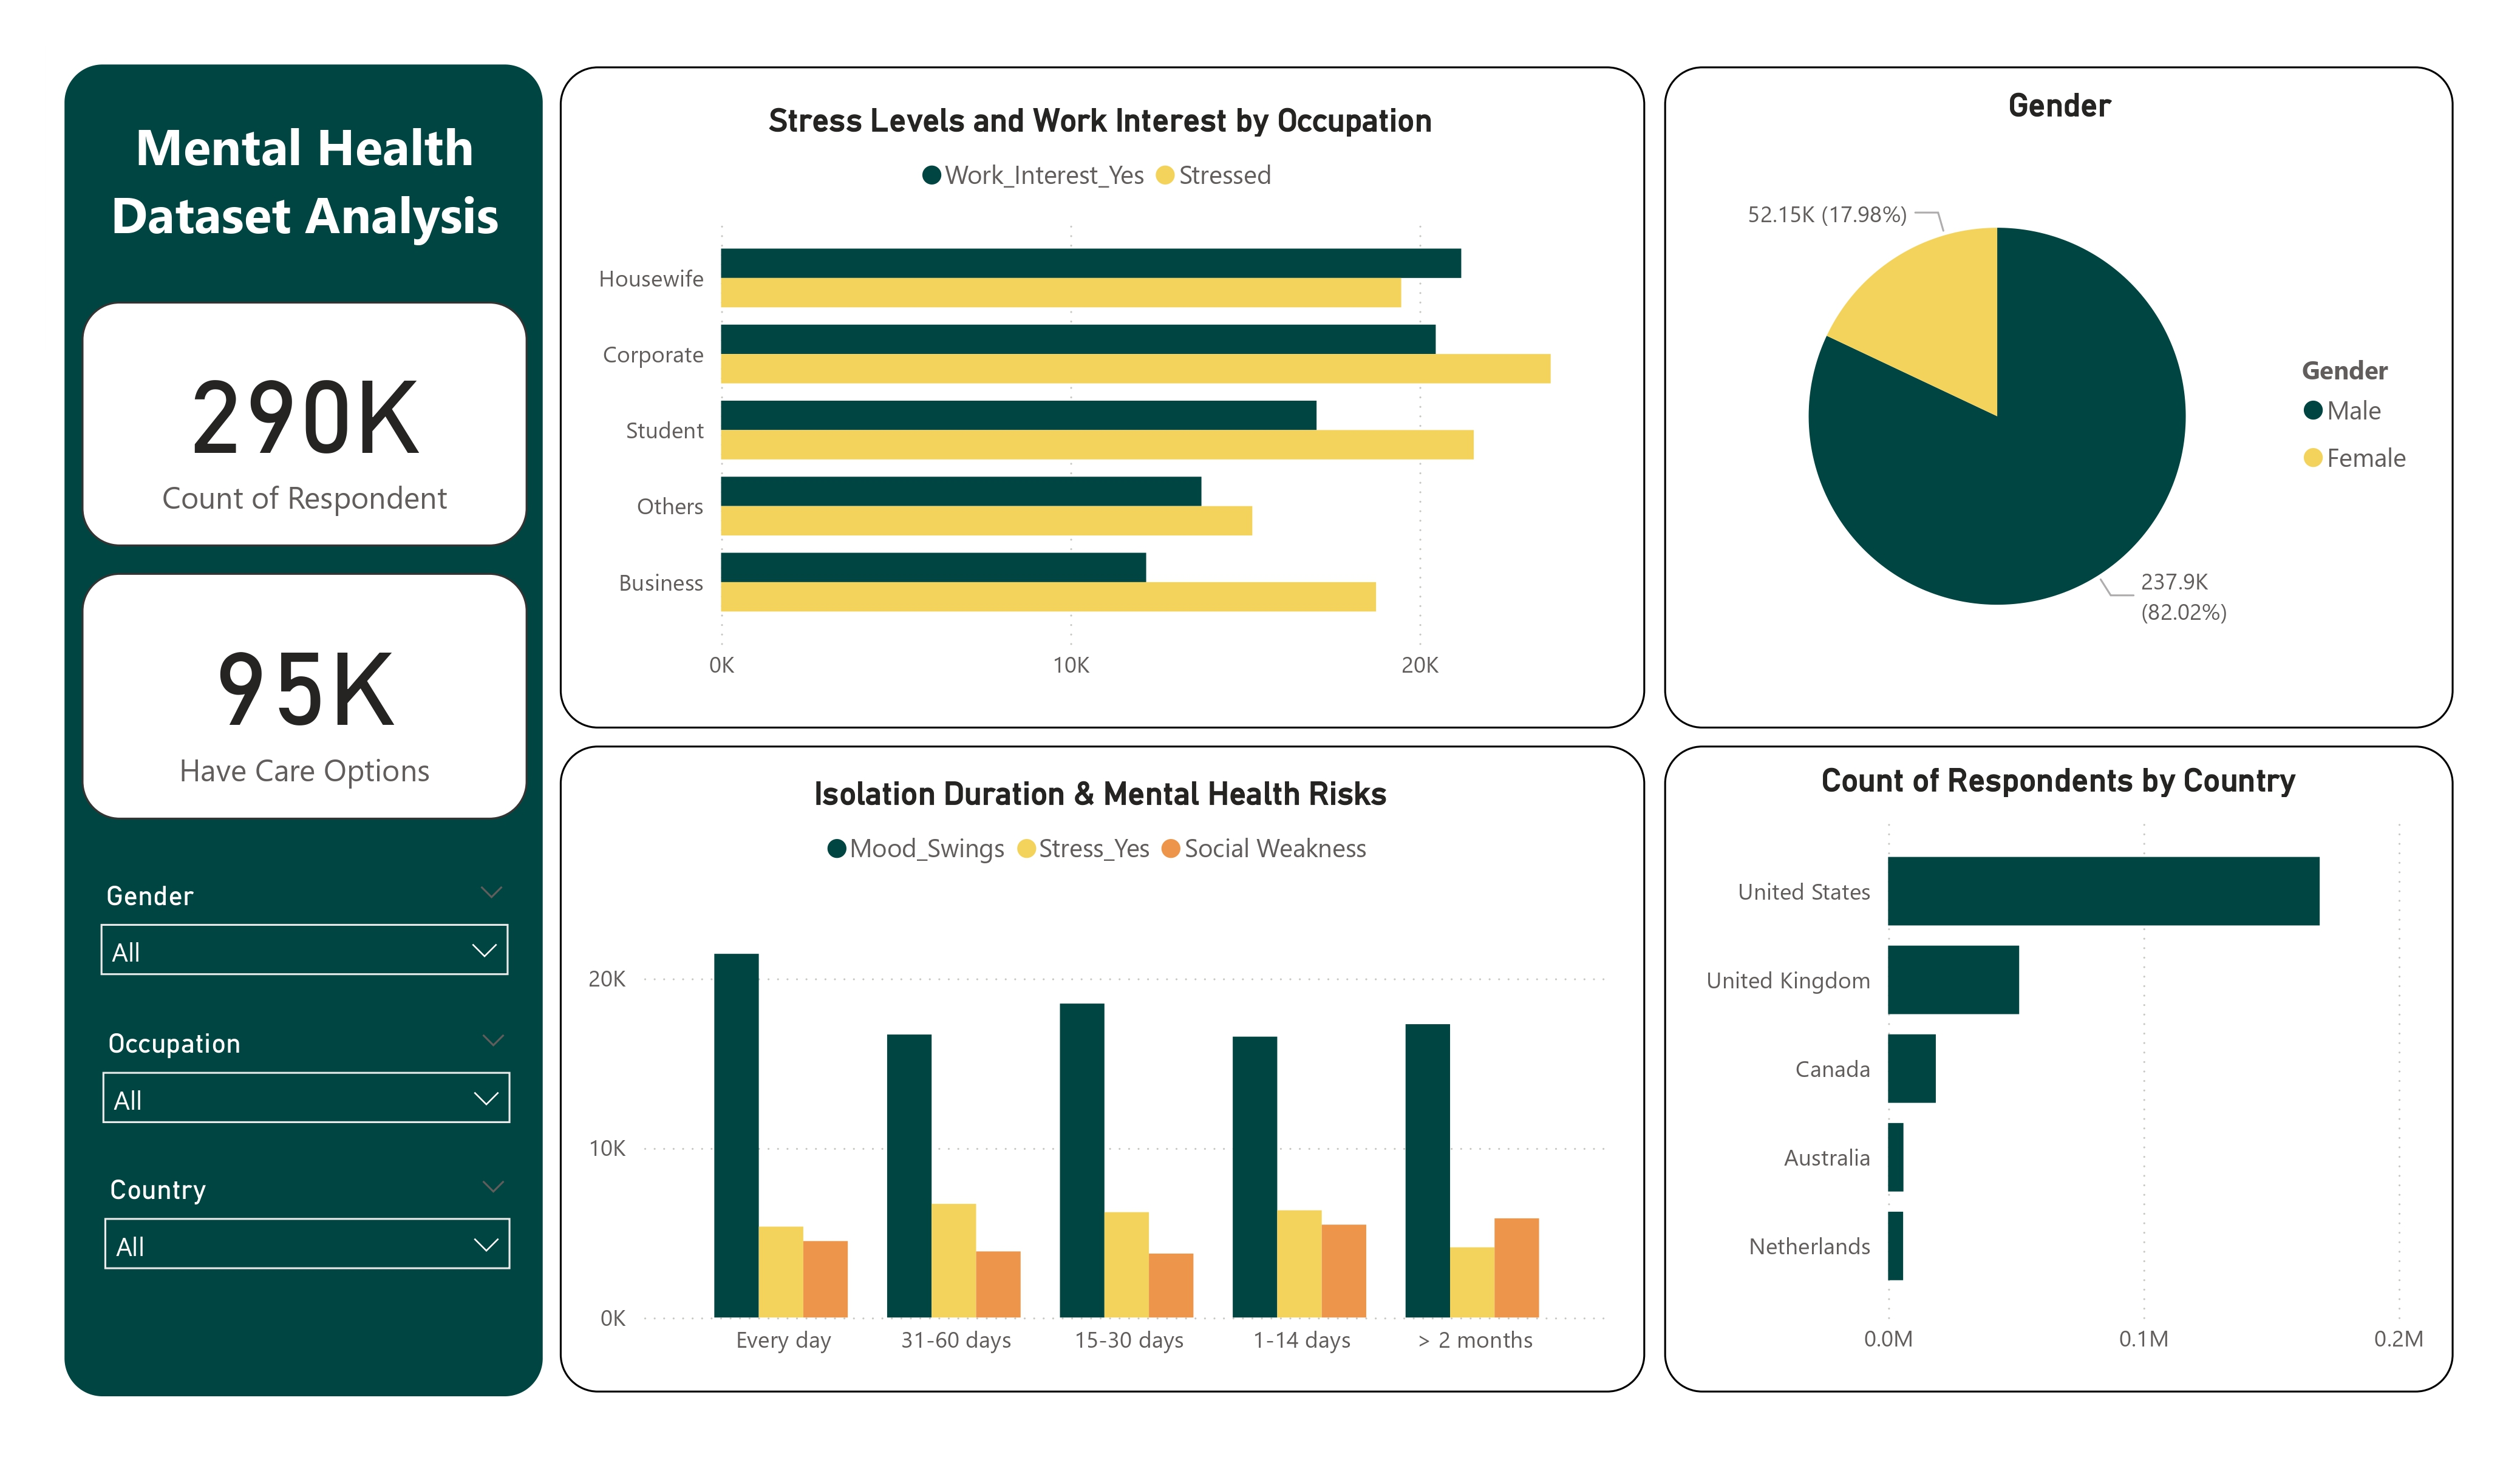

The page's visual inventory and layout, read from the dashboard file:
{"tool":"powerbi","page":{"name":"Page 1","canvas":[1280,720],"ordinal":0},"visuals":[{"type":"shape","box":[271.4,368.6,571.4,341.4],"z":0},{"type":"shape","box":[271.4,11.4,571.4,348.6],"z":1000},{"type":"clusteredColumnChart","title":"Isolation Duration & Mental Health Risks","fields":{"Category":["mental_health_dataset.Days_Indoors"],"Y":["CountNonNull(mental_health_dataset.Mood_Swings)","mental_health_dataset.Stress_Yes","mental_health_dataset.Social_Weakness_Yes"]},"box":[281.4,384.3,550,315.7],"z":2000},{"type":"shape","box":[0,0,271.8,720.5],"z":3000},{"type":"textbox","box":[19.2,29.5,234.6,85.9],"z":4000},{"type":"shape","box":[852.9,11.4,415.7,348.6],"z":5000},{"type":"clusteredBarChart","title":"Stress Levels and Work Interest by Occupation","fields":{"Category":["mental_health_dataset.Occupation"],"Y":["mental_health_dataset.Work_Interest_Yes","mental_health_dataset.Stress_Yes"]},"box":[281.4,28.6,550,315.7],"z":6000},{"type":"shape","box":[852.9,368.6,415.7,341.4],"z":7000},{"type":"pieChart","title":"Gender","fields":{"Category":["mental_health_dataset.Gender"],"Y":["CountNonNull(mental_health_dataset.Gender)"]},"box":[862.9,21.4,397.1,330],"z":8000},{"type":"clusteredBarChart","title":"Count of Respondents by Country","fields":{"Category":["mental_health_dataset.Country"],"Y":["CountNonNull(mental_health_dataset.Country)"]},"box":[863,377,396,323],"z":9000},{"type":"card","fields":{"Values":["CountNonNull(mental_health_dataset.Gender)"]},"box":[19.2,134.6,234.6,129.5],"z":10000},{"type":"card","fields":{"Values":["CountNonNull(mental_health_dataset.care_options)"]},"box":[19.2,278.2,234.6,129.5],"z":11000},{"type":"slicer","fields":{"Values":["mental_health_dataset.Gender"]},"box":[19.2,434.6,234.6,64.1],"z":12000},{"type":"slicer","fields":{"Values":["mental_health_dataset.Occupation"]},"box":[20,513,235,64],"z":13000},{"type":"slicer","fields":{"Values":["mental_health_dataset.Country"]},"box":[20.5,589.7,234.6,64.1],"z":14000}]}

Visuals, with their boxes in screenshot pixels (x1, y1, x2, y2):
shape: [560,745,1645,1393]
shape: [560,67,1645,728]
"Isolation Duration & Mental Health Risks" clusteredColumnChart: [579,775,1623,1373]
shape: [46,46,561,1411]
textbox: [82,101,527,265]
shape: [1664,67,2453,728]
"Stress Levels and Work Interest by Occupation" clusteredBarChart: [579,100,1623,699]
shape: [1664,745,2453,1393]
"Gender" pieChart: [1683,86,2436,712]
"Count of Respondents by Country" clusteredBarChart: [1683,761,2434,1373]
card - CountNonNull(mental_health_dataset.Gender): [82,301,527,546]
card - CountNonNull(mental_health_dataset.care_options): [82,573,527,819]
slicer - mental_health_dataset.Gender: [82,870,527,991]
slicer - mental_health_dataset.Occupation: [84,1019,530,1140]
slicer - mental_health_dataset.Country: [84,1164,530,1286]
